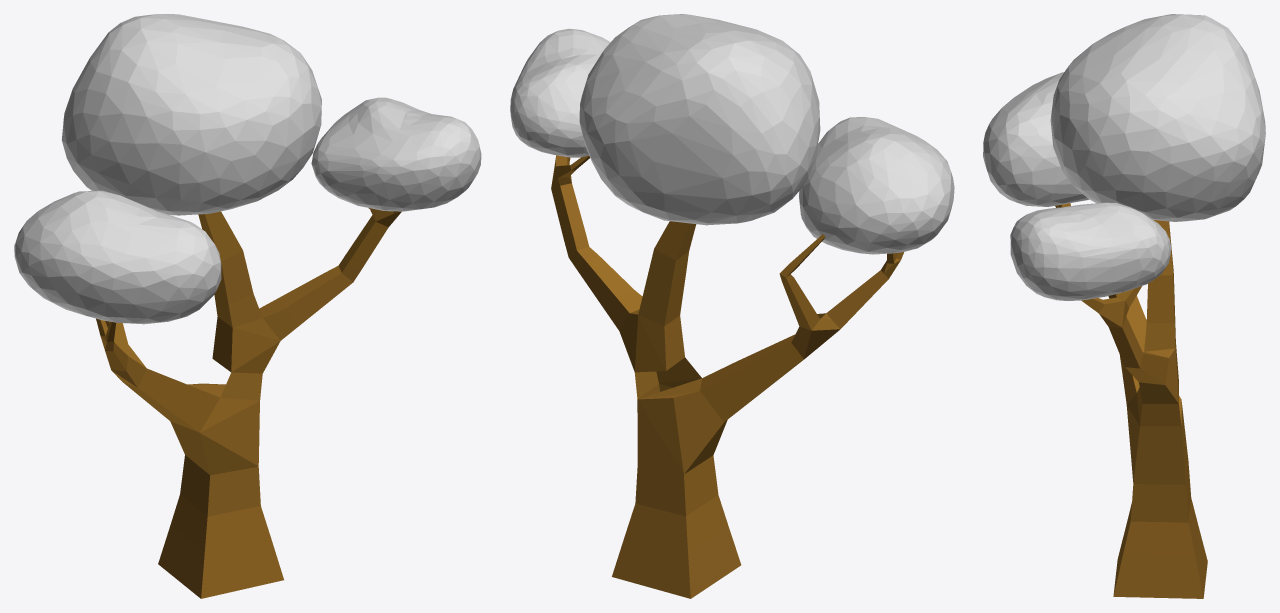
Rendered from OakTreeGroup_LP.gltf.
3 views of the same model, side by side, from view 1: azimuth 30°, elevation 25°; view 2: azimuth 150°, elevation 25°; view 3: azimuth 270°, elevation 25° (orthographic). The views are drawn at different scales.
Parts seen in each view (by area): view 1: OakTree.001, OakTree; view 2: OakTree.001, OakTree; view 3: OakTree.001, OakTree.
Boxes of the visible parts, x1,y1,x2,y2 form: OakTree.001: (14, 14, 481, 325); OakTree: (96, 208, 401, 598); OakTree.001: (510, 14, 954, 254); OakTree: (551, 155, 903, 598); OakTree.001: (983, 14, 1265, 300); OakTree: (1055, 203, 1207, 598).
Bounding box in the file's own units: 0.6934 × 0.8494 × 0.4089.
